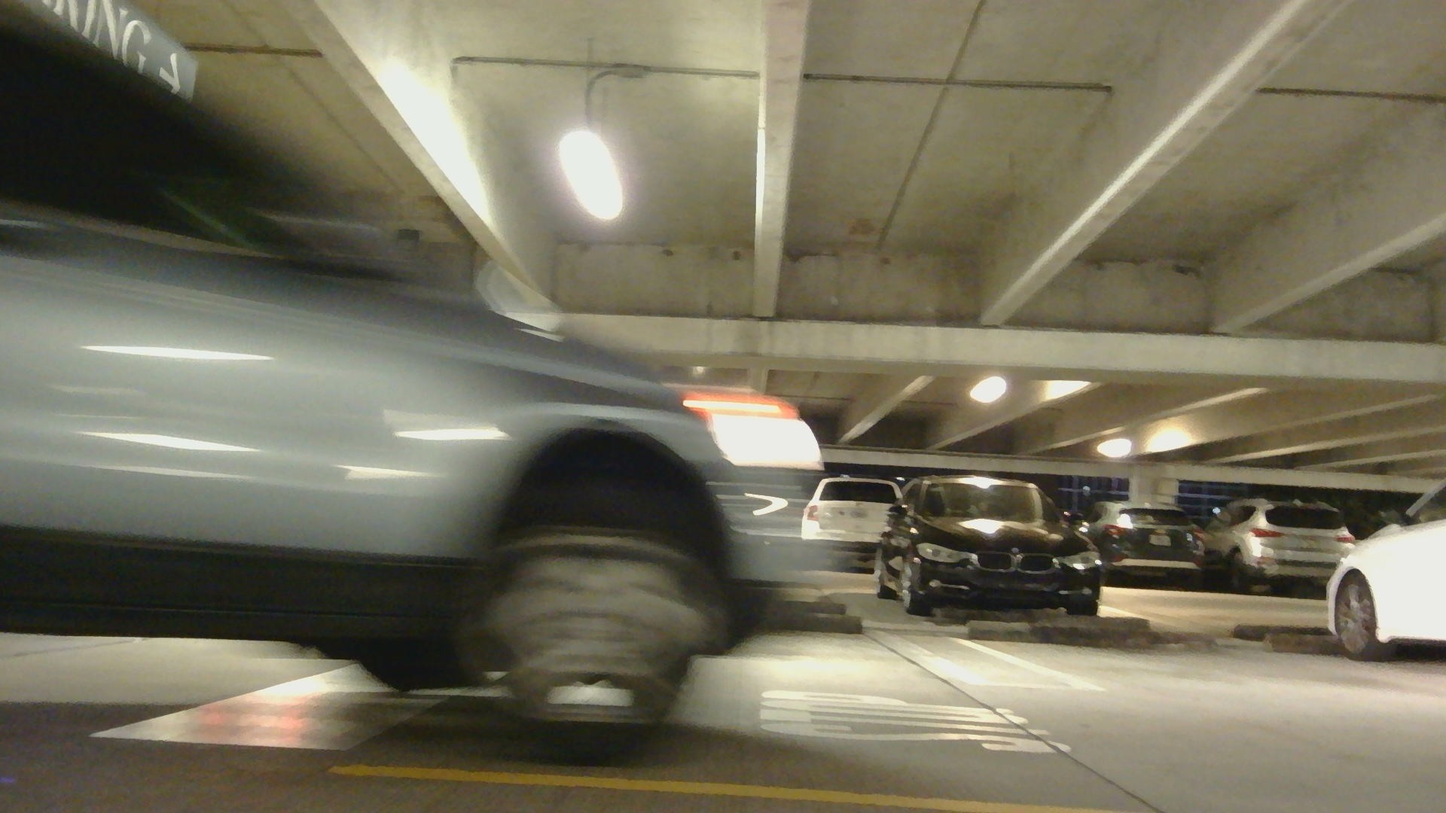empty_spot: (932, 630, 1443, 685), (682, 616, 983, 681)
occupied_spot: (1310, 461, 1445, 682)
